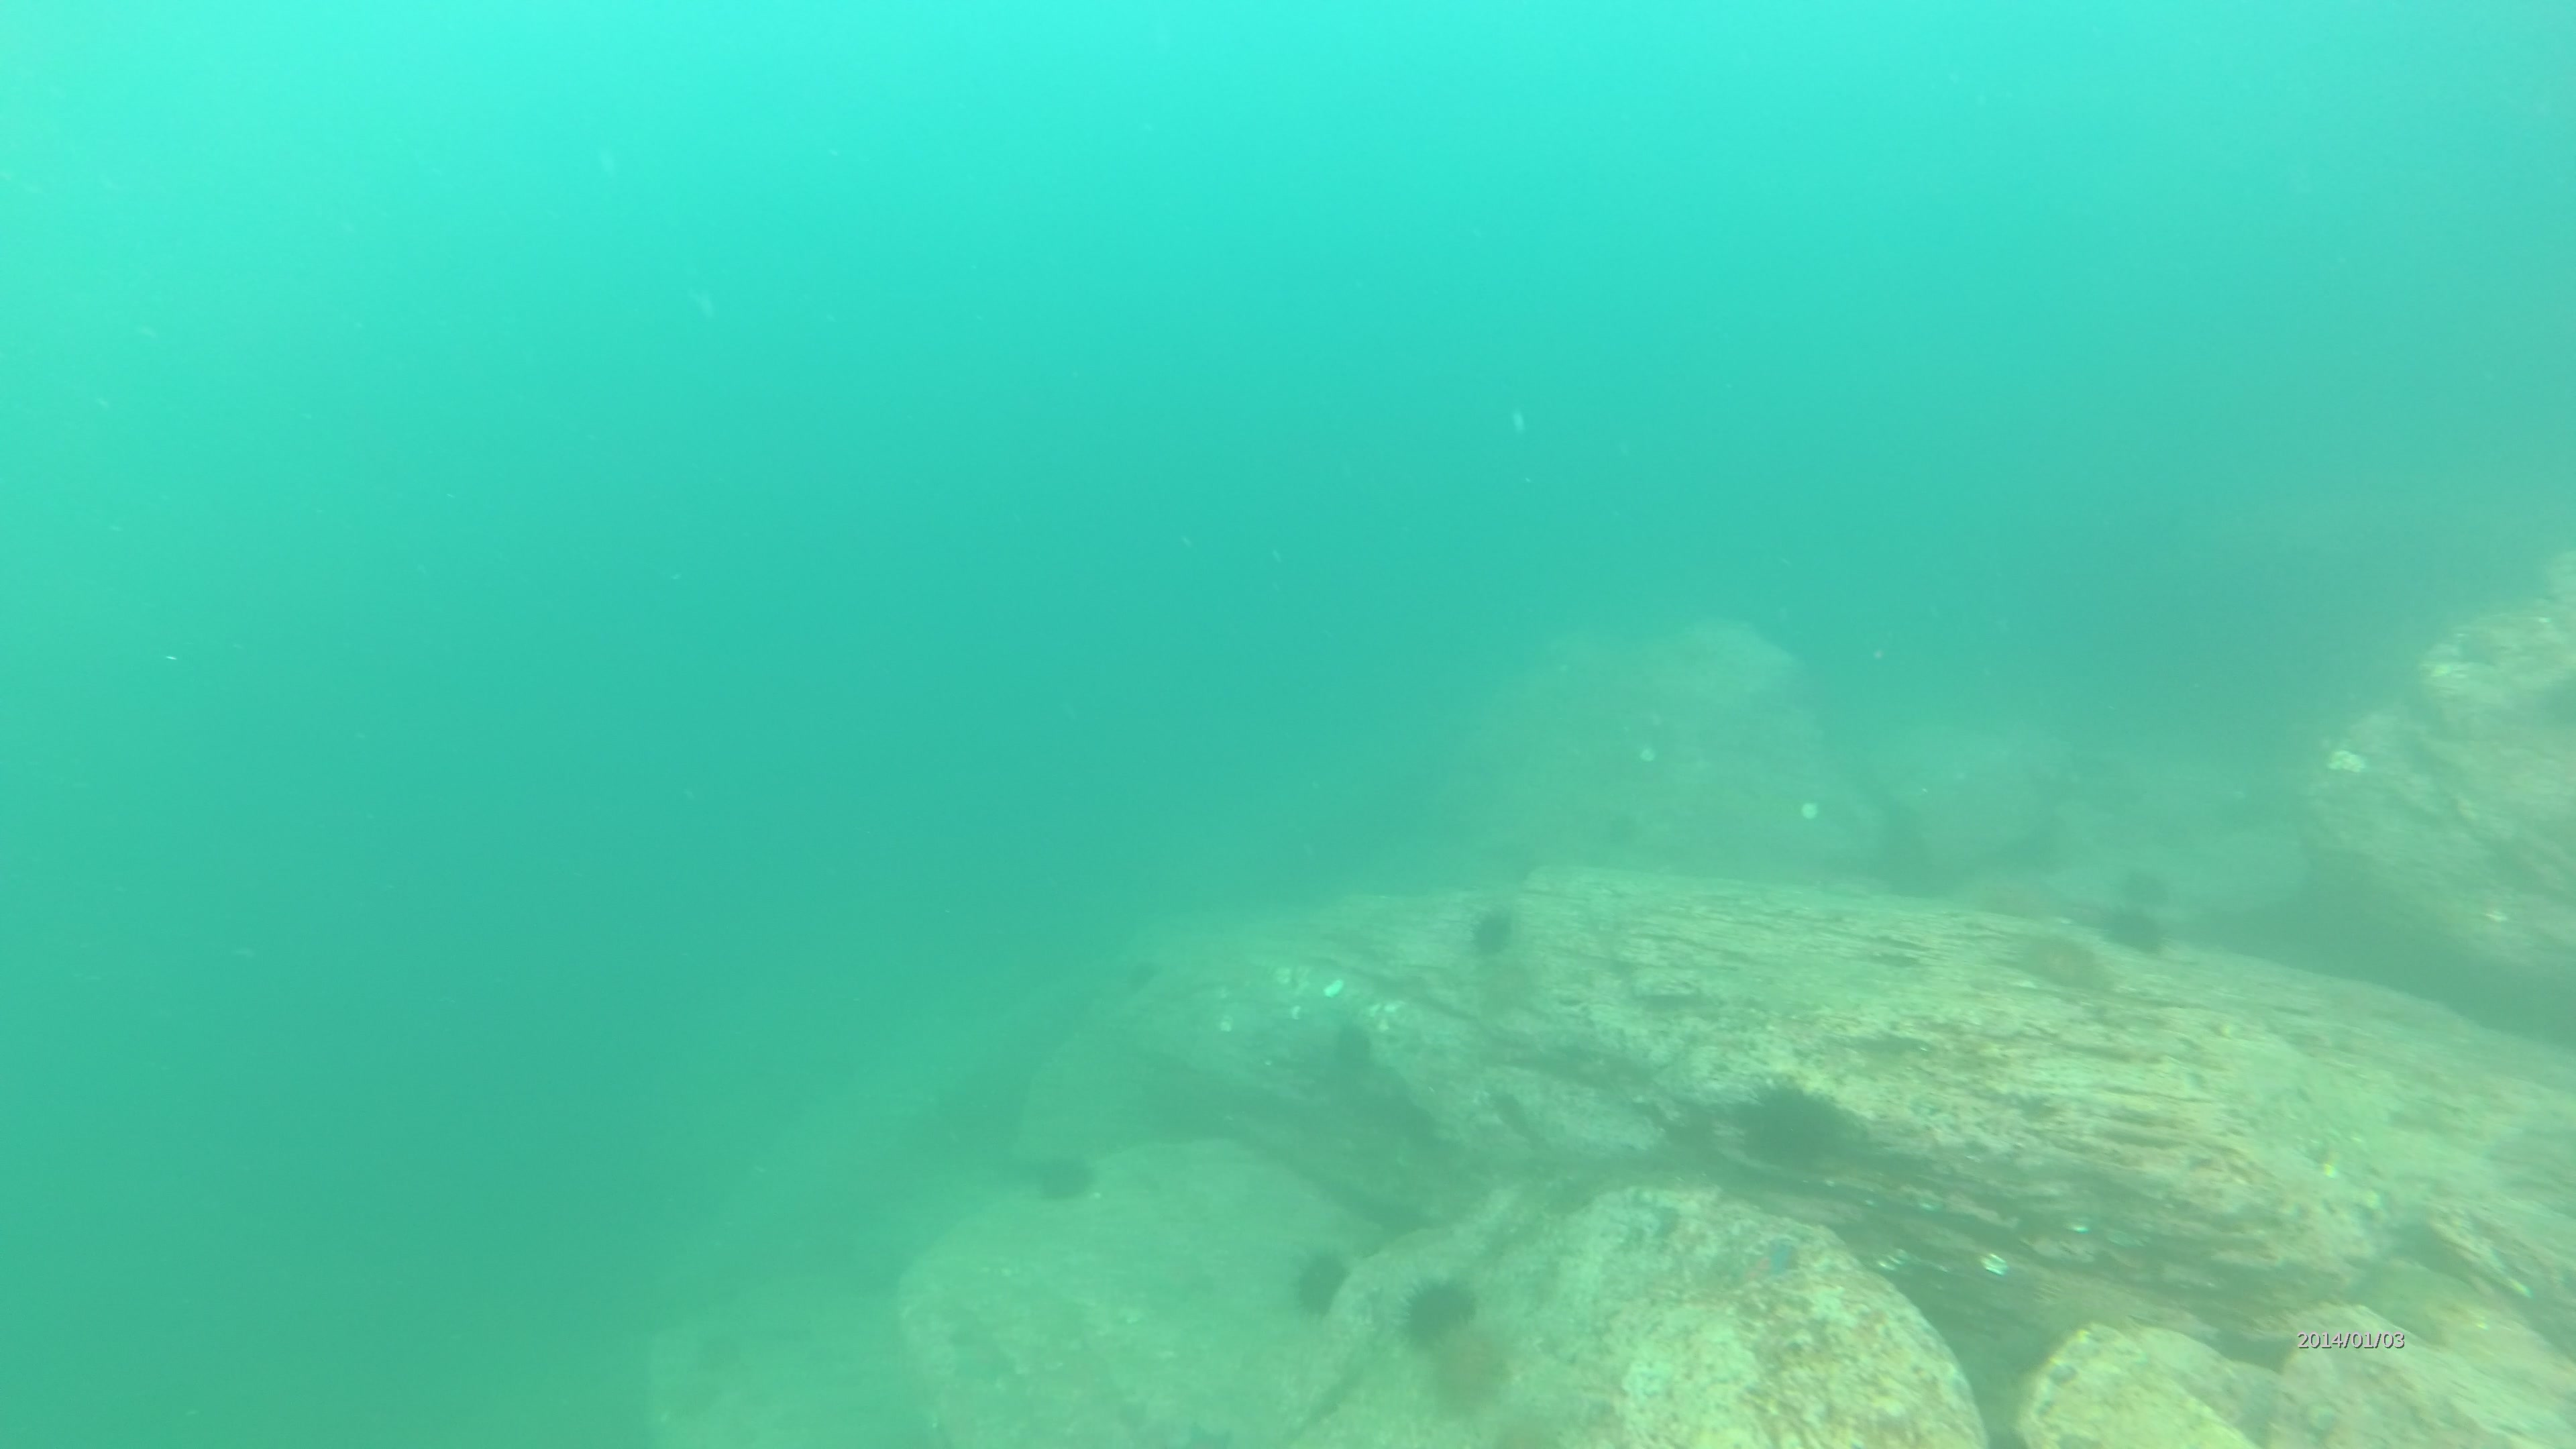echinus: (1730, 1074, 1836, 1175), (1435, 1322, 1513, 1405), (1401, 1274, 1476, 1348), (1293, 1249, 1352, 1315), (2100, 906, 2158, 962), (1035, 1155, 1097, 1205), (1467, 904, 1516, 950), (2114, 869, 2164, 915)
